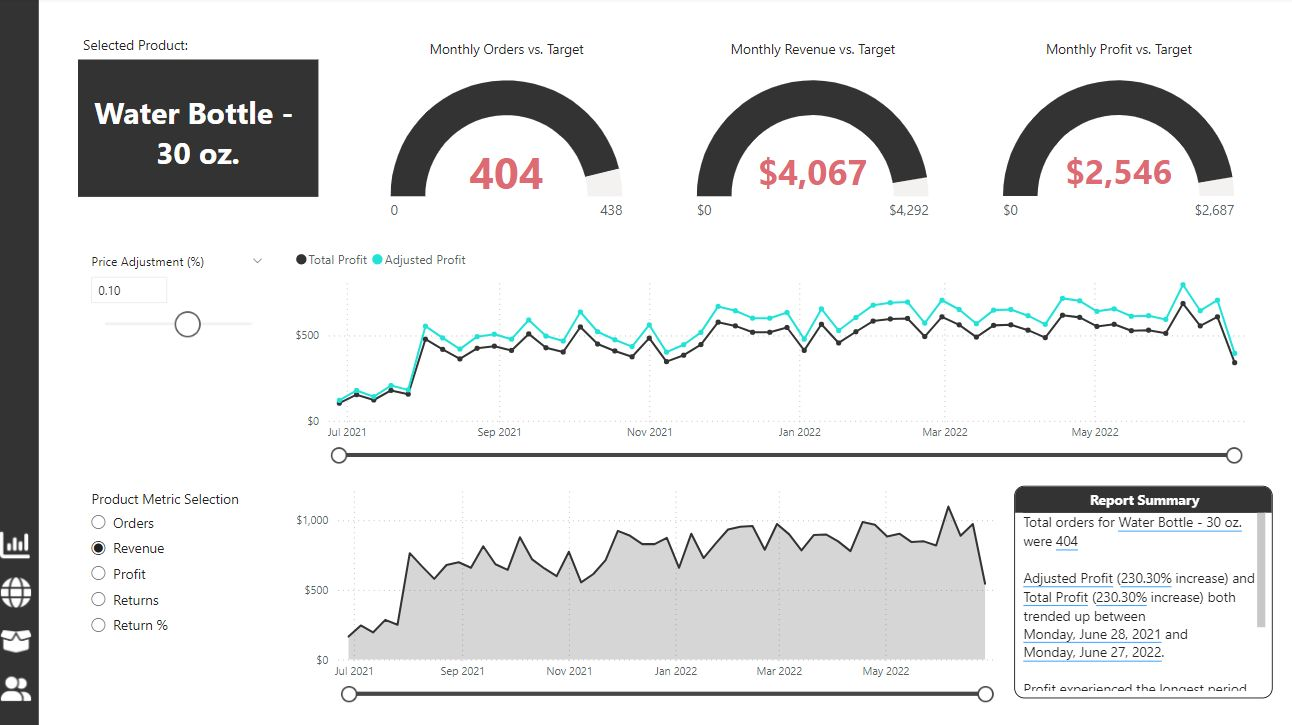

The page's visual inventory and layout, read from the dashboard file:
{"tool":"powerbi","page":{"name":"Product Detail","canvas":[1280,720],"ordinal":2},"visuals":[{"type":"shape","box":[0,0,45,720],"z":0},{"type":"actionButton","box":[2.5,516.7,45.6,37.8],"z":0,"group":"g1"},{"type":"gauge","title":"Monthly Orders vs. Target","fields":{"Y":["Measure Table.Total Orders"],"MaxValue":["Measure Table.Order Target"]},"box":[383.7,41.5,236.9,203.7],"z":1000},{"type":"actionButton","box":[3.3,563.4,45.6,37.8],"z":1000,"group":"g1"},{"type":"gauge","title":"Monthly Revenue vs. Target","fields":{"Y":["Measure Table.Total Revenue"],"MaxValue":["Measure Table.Revenue Target"]},"box":[683.5,41.5,236.9,203.7],"z":2000},{"type":"actionButton","box":[3.3,611.1,45.6,37.8],"z":2000,"group":"g1"},{"type":"gauge","title":"Monthly Profit vs. Target","fields":{"Y":["Measure Table.Total Profit"],"MaxValue":["Measure Table.Profit Target"]},"box":[983.4,41.8,236.2,203.5],"z":3000},{"type":"actionButton","box":[3.3,657.8,45.6,37.8],"z":3000,"group":"g1"},{"type":"lineChart","title":"Profit Trending","fields":{"Category":["Calendar Lookup.Date Hierarchy.Year","Calendar Lookup.Date Hierarchy.Start of Month","Calendar Lookup.Date Hierarchy.Start of Week","Calendar Lookup.Date Hierarchy.Date"],"Y":["Measure Table.Total Profit","Measure Table.Adjusted Profit"]},"box":[290.5,237.4,952.8,221.5],"z":4000},{"type":"areaChart","title":"Return Trending","fields":{"Y":["Measure Table.Total Revenue"],"Category":["Calendar Lookup.Date Hierarchy.Year","Calendar Lookup.Date Hierarchy.Start of Month","Calendar Lookup.Date Hierarchy.Start of Week","Calendar Lookup.Date Hierarchy.Date"]},"box":[290.5,471.3,708.7,221.5],"z":5000},{"type":"card","fields":{"Values":["Min(Product Lookup.ProductName)"]},"box":[83.6,61,235.1,134.5],"z":6000},{"type":"textbox","box":[83.6,32.8,136.8,36.2],"z":7000},{"type":"group","id":"g1","title":"Navigation Buttons","box":[2.5,516.7,46.4,178.9],"z":8000},{"type":"slicer","fields":{"Values":["Price Adjustment (%).Price Adjustment (%)"]},"box":[83.6,245.3,193.3,123.2],"z":9000},{"type":"slicer","fields":{"Values":["Product Metric Selection.Product Metric Selection"]},"box":[83.6,477,193.3,180.8],"z":10000},{"type":"textbox","title":"Report Summary","box":[999.2,478.1,253.2,208],"z":11000}]}

Visuals, with their boxes on the page's 1280x720 design canvas (x1, y1, x2, y2). These are canvas units, not pixel positions in the 1292x725 screenshot, which may show the page scaled, cropped or inside an application window:
shape: [0, 0, 45, 720]
actionButton: [2, 517, 48, 554]
"Monthly Orders vs. Target" gauge: [384, 42, 621, 245]
actionButton: [3, 563, 49, 601]
"Monthly Revenue vs. Target" gauge: [684, 42, 920, 245]
actionButton: [3, 611, 49, 649]
"Monthly Profit vs. Target" gauge: [983, 42, 1220, 245]
actionButton: [3, 658, 49, 696]
"Profit Trending" lineChart: [290, 237, 1243, 459]
"Return Trending" areaChart: [290, 471, 999, 693]
card - Min(Product Lookup.ProductName): [84, 61, 319, 196]
textbox: [84, 33, 220, 69]
"Navigation Buttons" group: [2, 517, 49, 696]
slicer - Price Adjustment (%).Price Adjustment (%): [84, 245, 277, 368]
slicer - Product Metric Selection.Product Metric Selection: [84, 477, 277, 658]
"Report Summary" textbox: [999, 478, 1252, 686]
